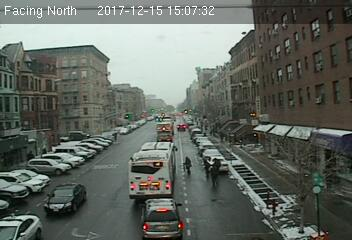bus: (128, 141, 176, 195)
car: (139, 199, 185, 239), (43, 183, 86, 216), (1, 213, 41, 240), (206, 155, 229, 174), (176, 123, 186, 131)
pedestrian: (183, 154, 192, 176)
truck: (154, 122, 173, 141)
